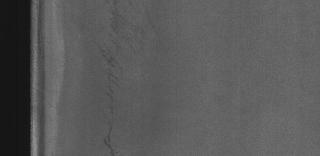water spot: (91, 12, 141, 154)
